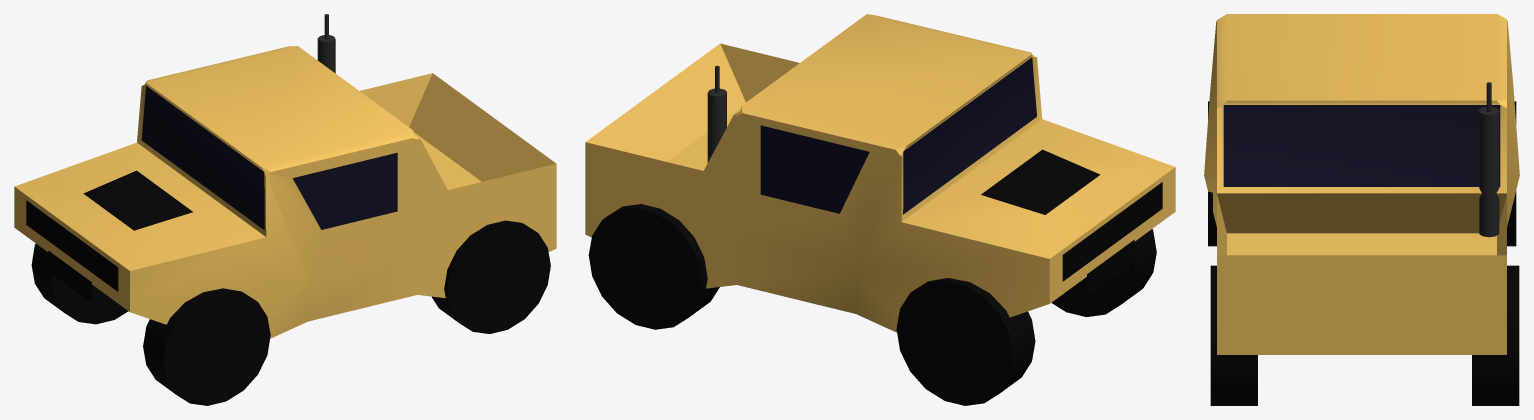
The model's file is humvee.FBX.
3 views of the same model, side by side, from view 1: azimuth 30°, elevation 25°; view 2: azimuth 150°, elevation 25°; view 3: azimuth 270°, elevation 25° (orthographic). The views are drawn at different scales.
Parts seen in each view (by area): view 1: Box002, Cylinder003, Cylinder004, Cylinder001, Box003, Cylinder005; view 2: Box002, Cylinder001, Cylinder002, Cylinder003, Box003, Cylinder005; view 3: Box002, Cylinder002, Cylinder004, Cylinder005, Cylinder001, Cylinder003.
Boxes of the visible parts, bbox=[...] form: Box002: bbox=[14, 46, 556, 338]; Cylinder003: bbox=[143, 288, 270, 405]; Cylinder004: bbox=[432, 220, 550, 333]; Cylinder001: bbox=[31, 243, 128, 324]; Box003: bbox=[48, 250, 110, 302]; Cylinder005: bbox=[317, 35, 335, 73]; Box002: bbox=[585, 14, 1175, 332]; Cylinder001: bbox=[896, 278, 1035, 405]; Cylinder002: bbox=[588, 204, 719, 329]; Cylinder003: bbox=[1051, 229, 1156, 316]; Box003: bbox=[1066, 239, 1134, 296]; Cylinder005: bbox=[707, 88, 726, 162]; Box002: bbox=[1204, 14, 1519, 354]; Cylinder002: bbox=[1472, 265, 1519, 405]; Cylinder004: bbox=[1210, 265, 1257, 405]; Cylinder005: bbox=[1479, 107, 1499, 237]; Cylinder001: bbox=[1507, 101, 1516, 246]; Cylinder003: bbox=[1208, 101, 1216, 246].
Bounding box in the file's own units: 73.4 × 40.61 × 40.51.
